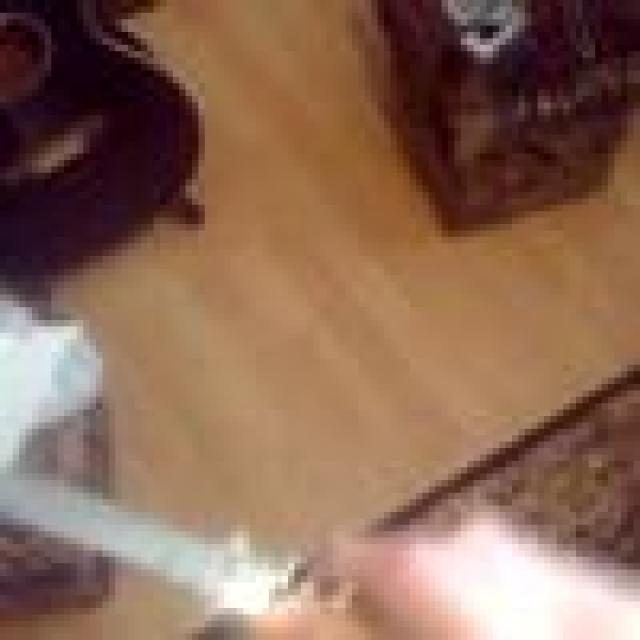knife: (0, 482, 289, 602)
